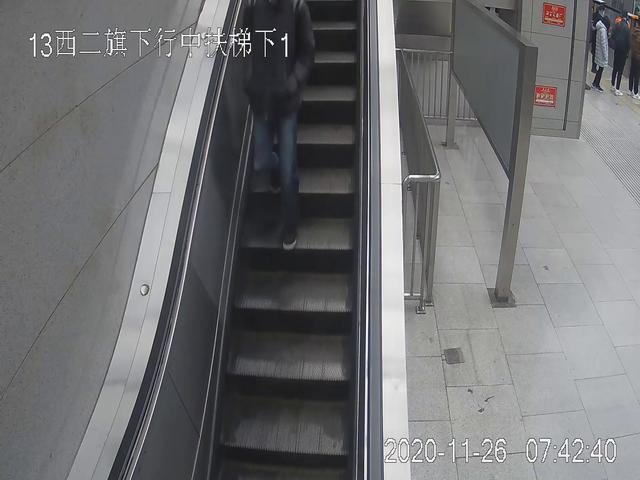person: (242, 1, 313, 250), (612, 15, 630, 96), (594, 16, 609, 92)
